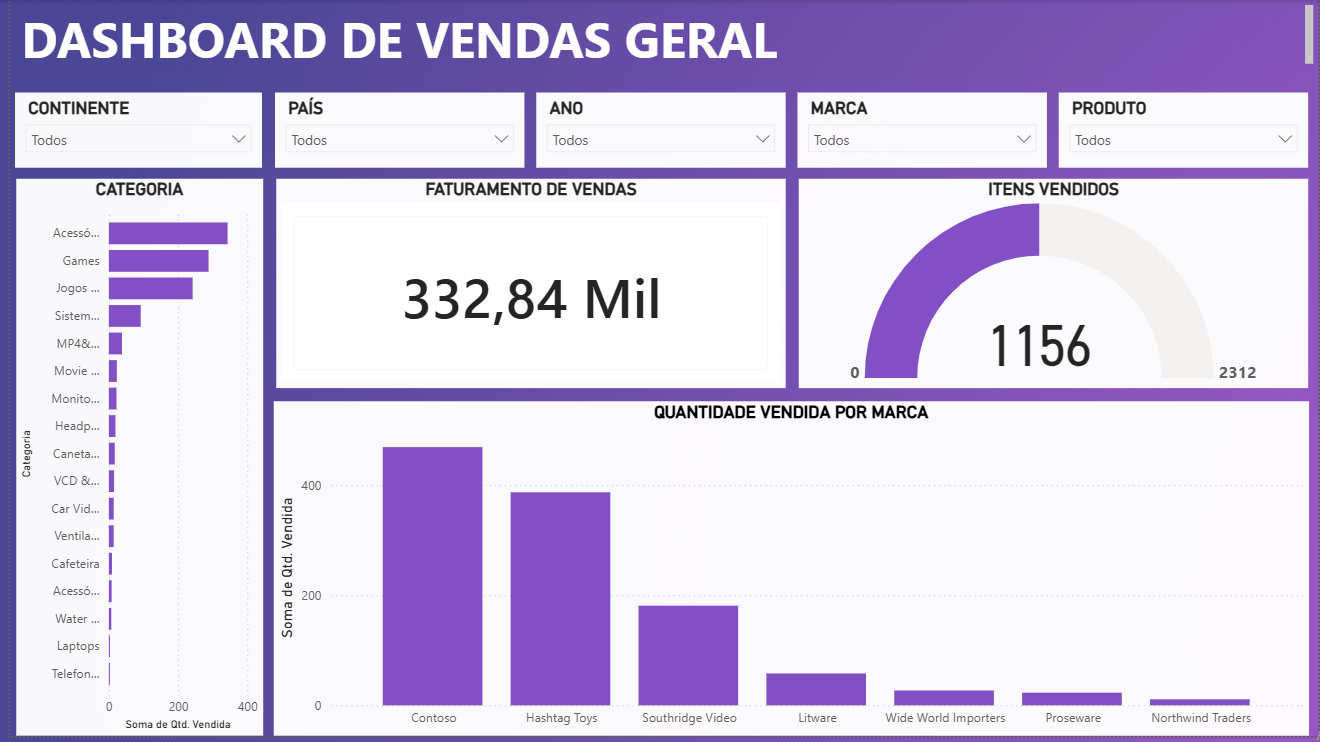

Layout of this report page (visuals, bound fields, positions):
{"tool":"powerbi","page":{"name":"Página 1","canvas":[1280,720],"ordinal":0},"visuals":[{"type":"card","title":"VALOR DE VENDA TOTAL","fields":{"Values":["Sum(Dados.Valor Final)"]},"box":[364.4,181.1,441.1,275.6],"z":0},{"type":"card","title":"TOTAL DE ITENS VENDIDOS","fields":{"Values":["Sum(Dados.Qtd. Vendida)"]},"box":[822.2,181.1,441.1,275.6],"z":1000},{"type":"columnChart","title":"QUANTIDADE VENDIDA POR MARCA","fields":{"Y":["Sum(Dados.Qtd. Vendida)"],"Category":["Dados.Marca"]},"box":[364.4,461.1,897.8,246.7],"z":2000},{"type":"clusteredBarChart","title":"Quantidade Vendida por Categoria","fields":{"Y":["Sum(Dados.Qtd. Vendida)"],"Category":["Dados.Categoria"]},"box":[15.6,181.1,334.4,526.7],"z":3000},{"type":"slicer","fields":{"Values":["Dados.Continente"]},"box":[15.6,82.2,244.4,93.3],"z":4000},{"type":"slicer","fields":{"Values":["Dados.País"]},"box":[264.4,82.2,245.6,93.3],"z":5000},{"type":"slicer","fields":{"Values":["Dados.Data da Venda.Variation.Hierarquia de datas.Ano"]},"box":[517.8,82.2,245.6,93.3],"z":6000},{"type":"slicer","fields":{"Values":["Dados.Produto"]},"box":[1017.8,82.2,245.6,93.3],"z":6001},{"type":"slicer","fields":{"Values":["Dados.Marca"]},"box":[767.8,82.2,245.6,93.3],"z":6002},{"type":"textbox","box":[172.2,0,934.4,82.2],"z":6003},{"type":"image","box":[1103.3,20,176.7,78.9],"z":6004}]}

Visuals, with their boxes in screenshot pixels (x1, y1, x2, y2), scaled from the page's 1280x720 canvas onto the 1320x742 screenshot:
"VALOR DE VENDA TOTAL" card: 376 187 831 471
"TOTAL DE ITENS VENDIDOS" card: 848 187 1303 471
"QUANTIDADE VENDIDA POR MARCA" columnChart: 376 475 1302 729
"Quantidade Vendida por Categoria" clusteredBarChart: 16 187 361 729
slicer - Dados.Continente: 16 85 268 181
slicer - Dados.País: 273 85 526 181
slicer - Dados.Data da Venda.Variation.Hierarquia de datas.Ano: 534 85 787 181
slicer - Dados.Produto: 1050 85 1303 181
slicer - Dados.Marca: 792 85 1045 181
textbox: 178 0 1141 85
image: 1138 21 1319 102
